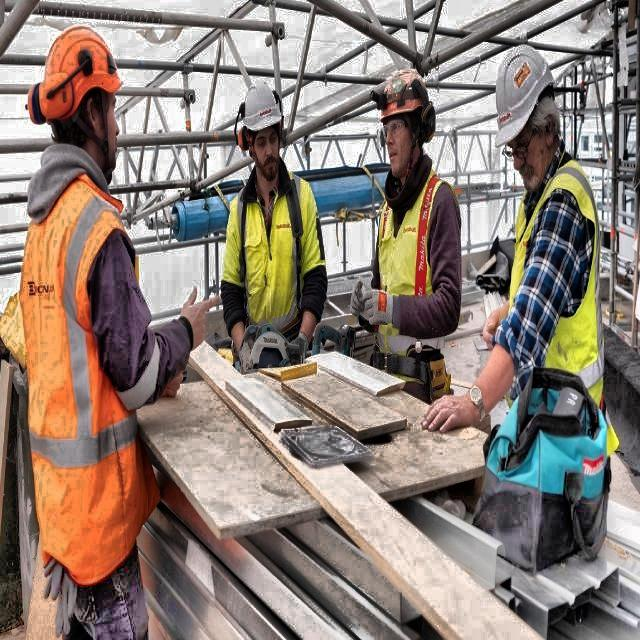person: (16, 19, 196, 634), (484, 44, 604, 409), (218, 74, 330, 354), (361, 66, 464, 333)
